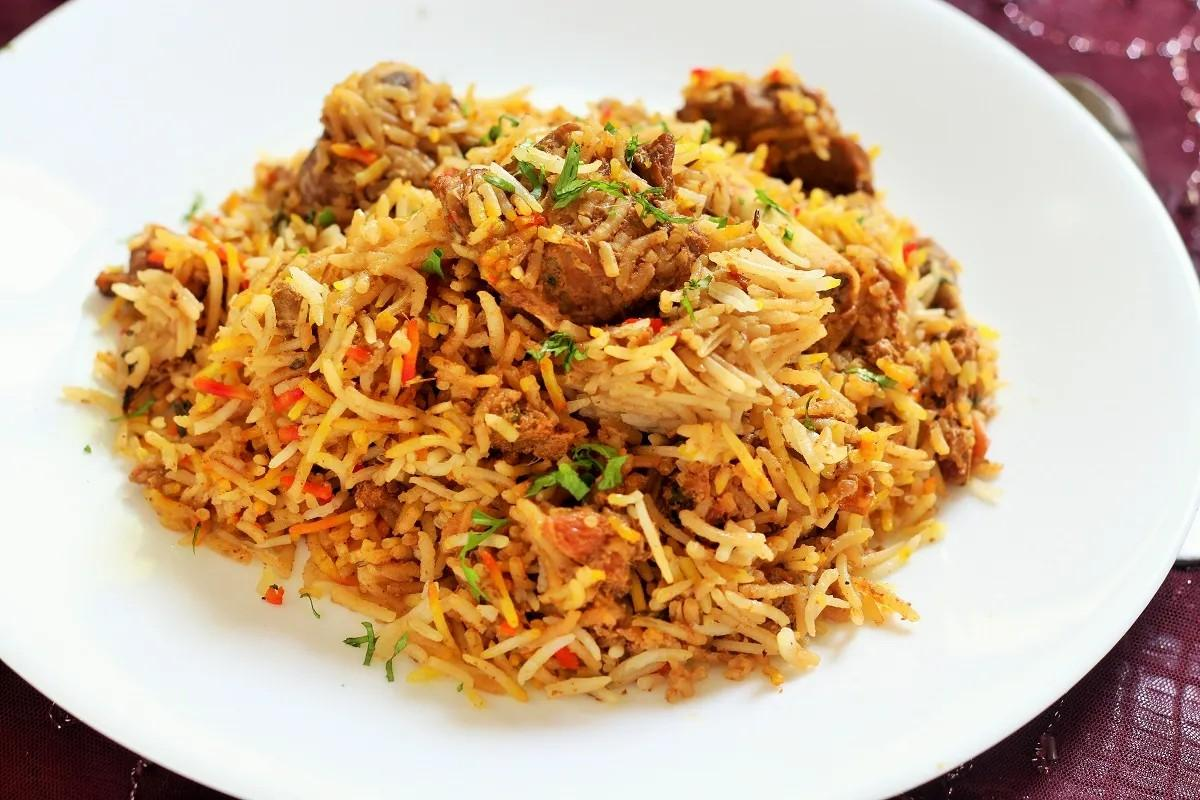Biryani: (62, 54, 1005, 704)
